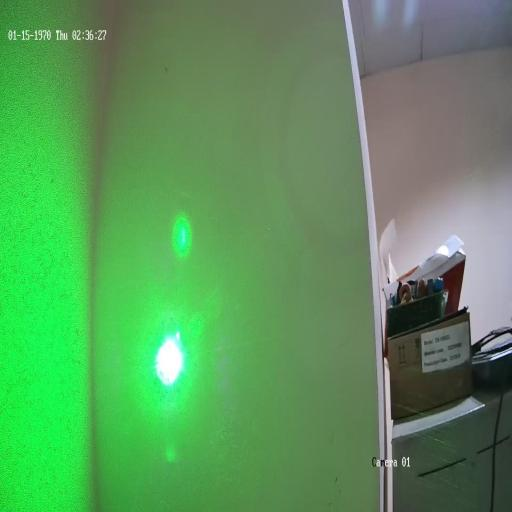laser: (151, 320, 190, 398)
